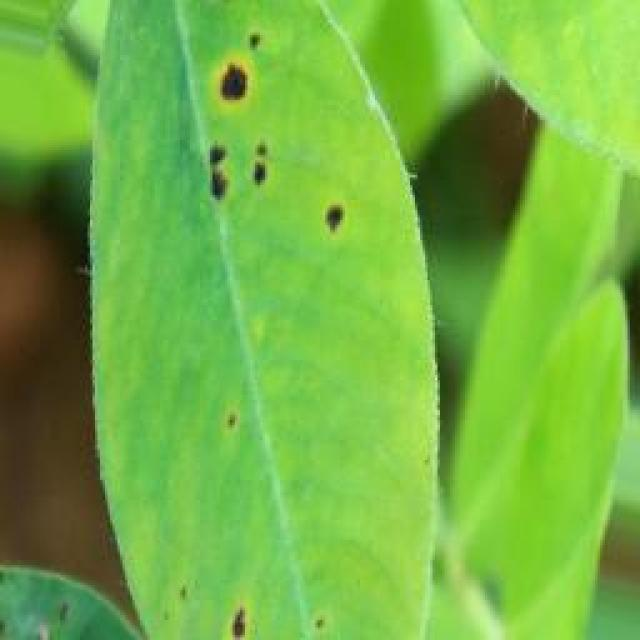Sigatoka: (168, 107, 281, 187), (204, 6, 278, 106), (205, 380, 267, 454), (210, 579, 270, 640), (311, 175, 356, 243), (283, 602, 349, 640)
